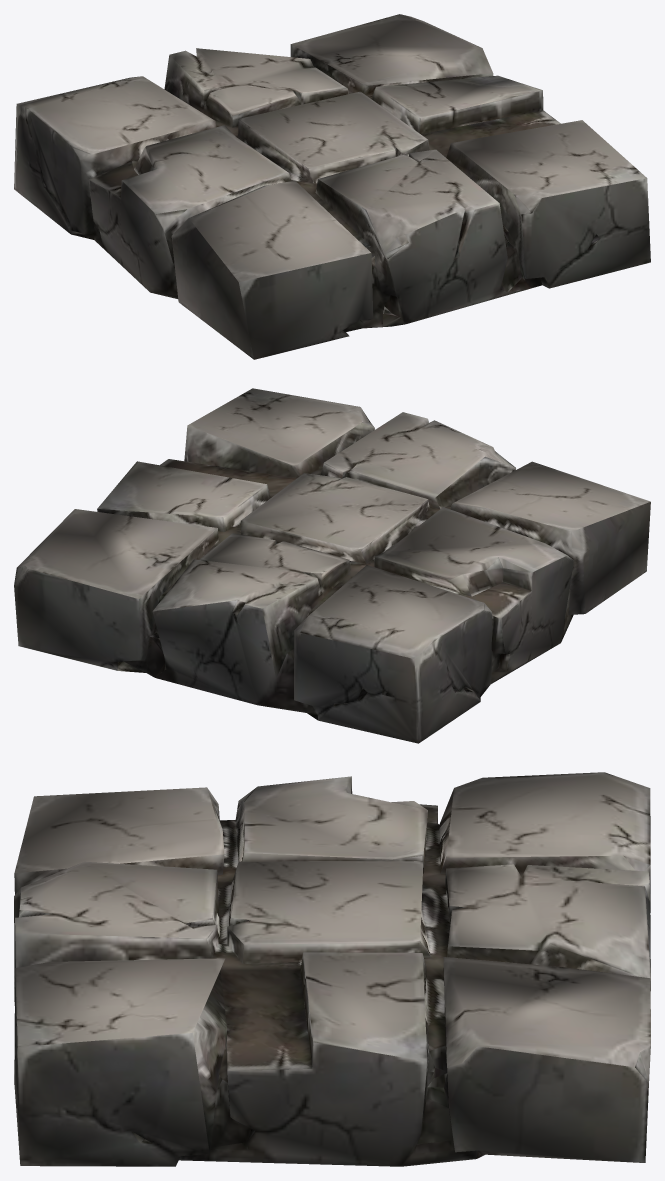
Rendered from cobblestone-pathway.glb.
3 views of the same model, one above another, from view 1: azimuth 30°, elevation 25°; view 2: azimuth 150°, elevation 25°; view 3: azimuth 270°, elevation 25° (orthographic). The views are drawn at different scales.
Size of the model in its own units: 1.91 by 0.4437 by 1.92.
1 material, 1 textured.
